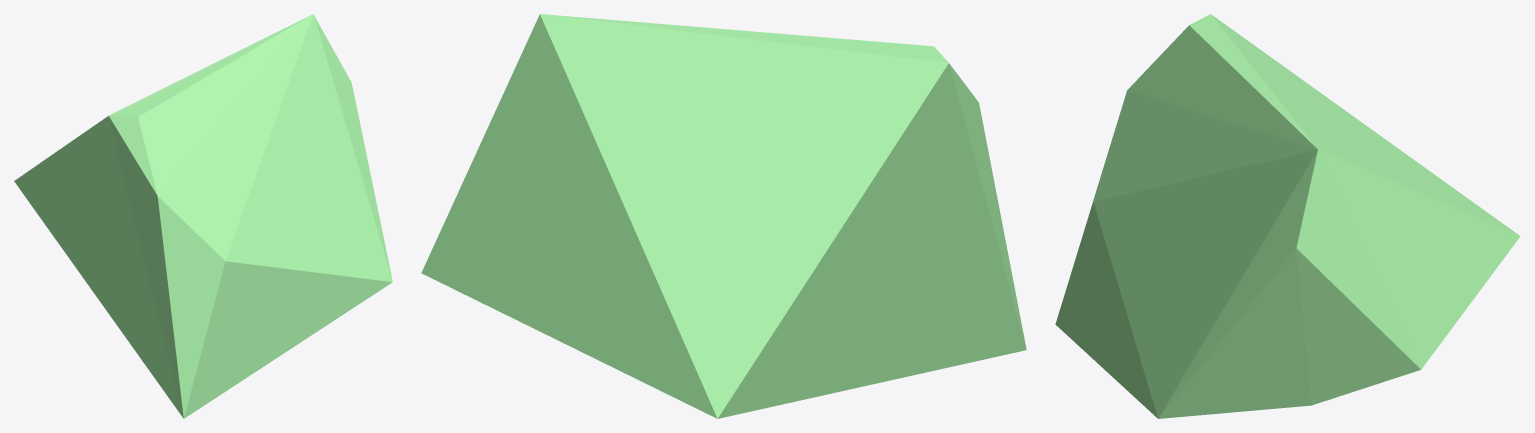
File: dvkr_robot_L3_dx_respondable_TOOL2_coll_10.dae
3 views of the same model, side by side, from view 1: azimuth 30°, elevation 25°; view 2: azimuth 150°, elevation 25°; view 3: azimuth 270°, elevation 25° (orthographic). The views are drawn at different scales.
Parts seen in each view (by area): view 1: Node_0000023514CD9BB0; view 2: Node_0000023514CD9BB0; view 3: Node_0000023514CD9BB0.
Boxes of the visible parts, x1,y1,x2,y2 form: Node_0000023514CD9BB0: [14, 14, 392, 418]; Node_0000023514CD9BB0: [421, 14, 1026, 418]; Node_0000023514CD9BB0: [1055, 14, 1520, 418].
Size of the model in its own units: 0.00216 by 0.00187 by 0.00252.
